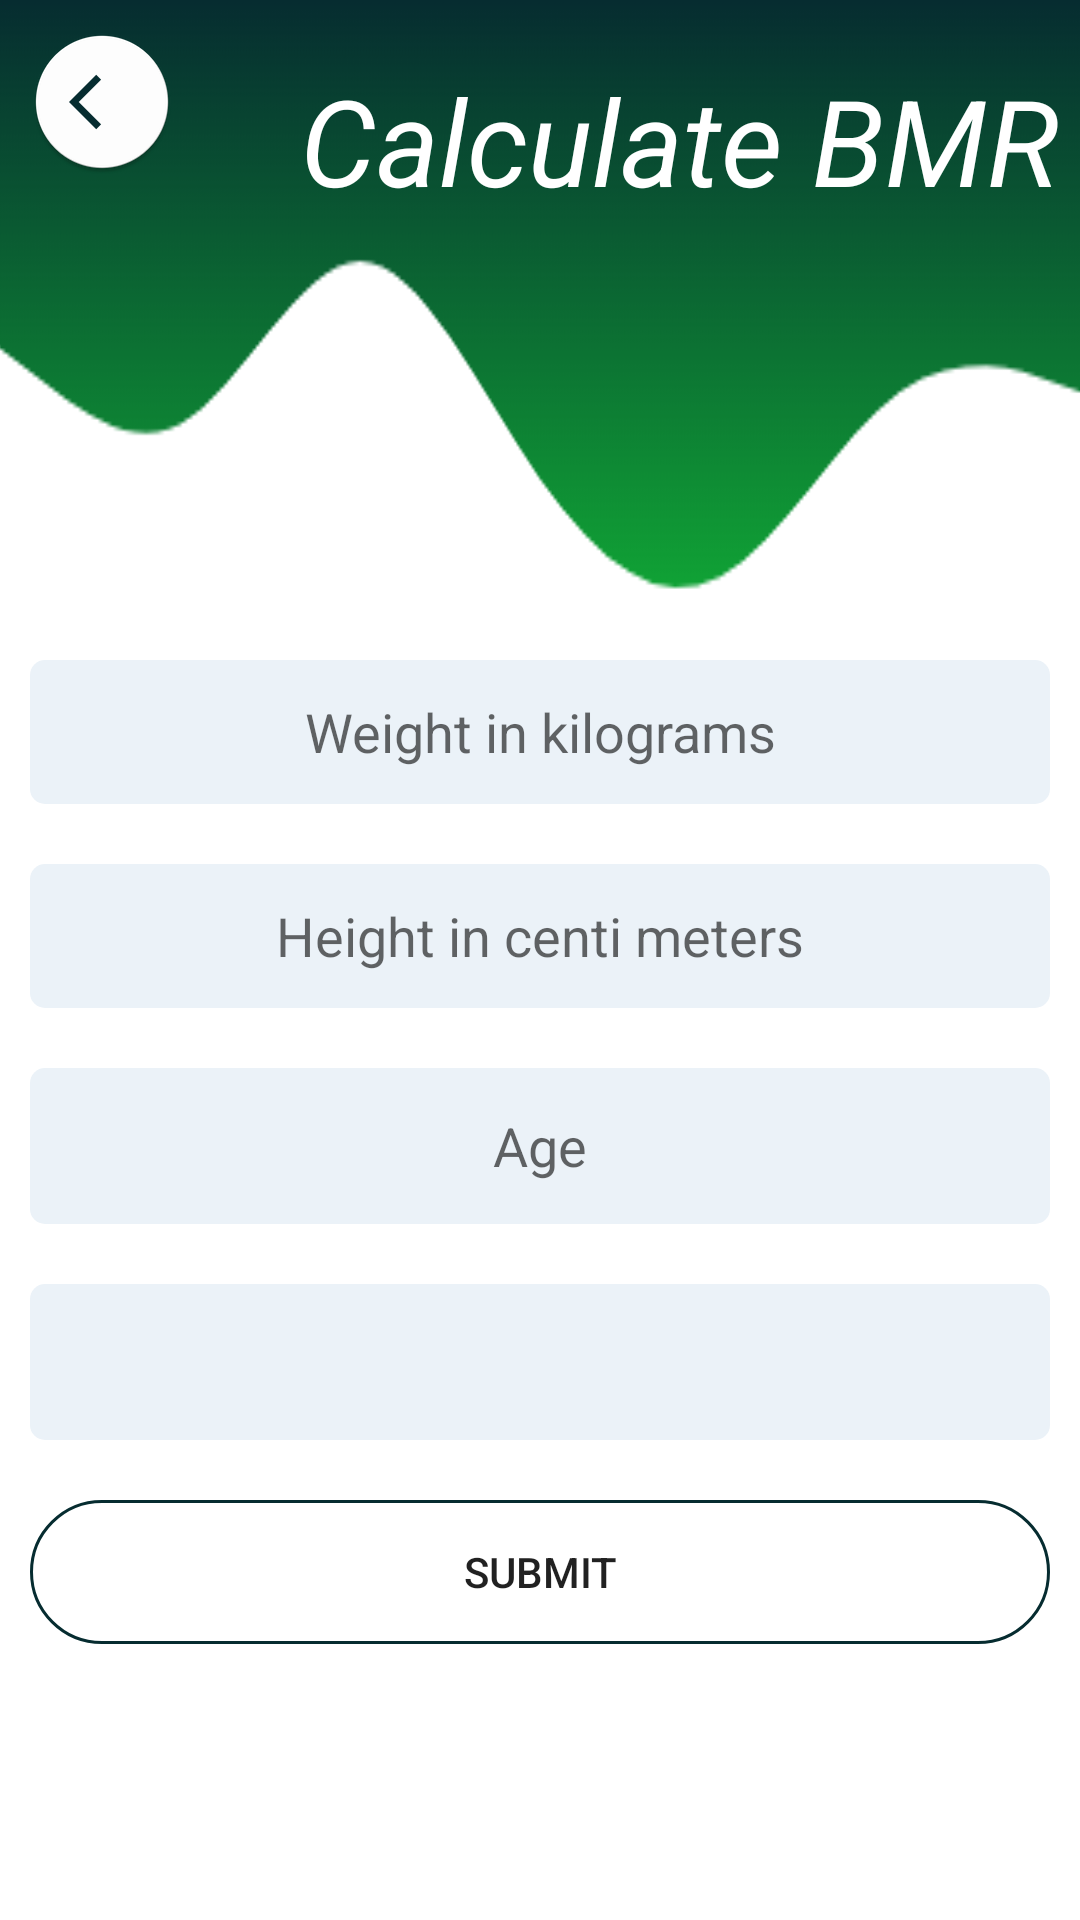

Icons on this 1080w x 1920h Android screen, each with the point to tap as (x=x, y=y):
back: (x=102, y=101)
